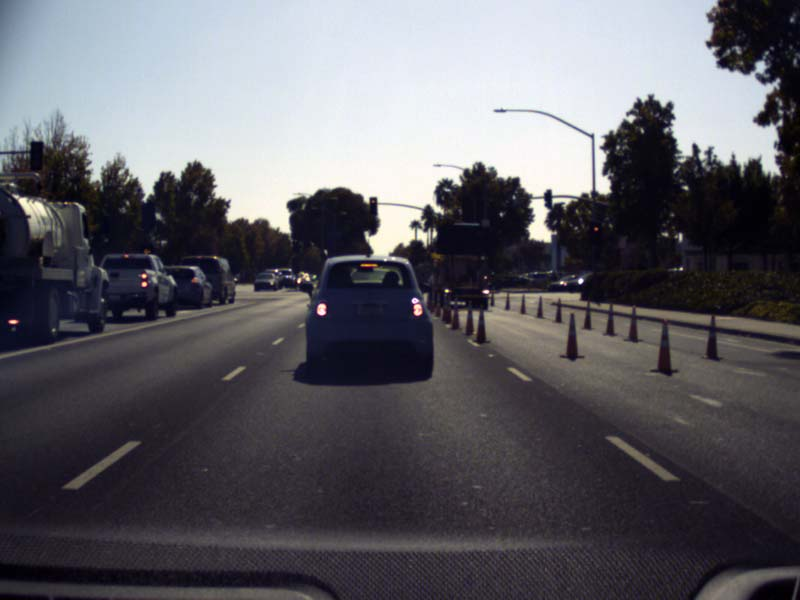Red: (142, 244, 153, 268), (591, 222, 601, 243), (369, 196, 376, 215)
